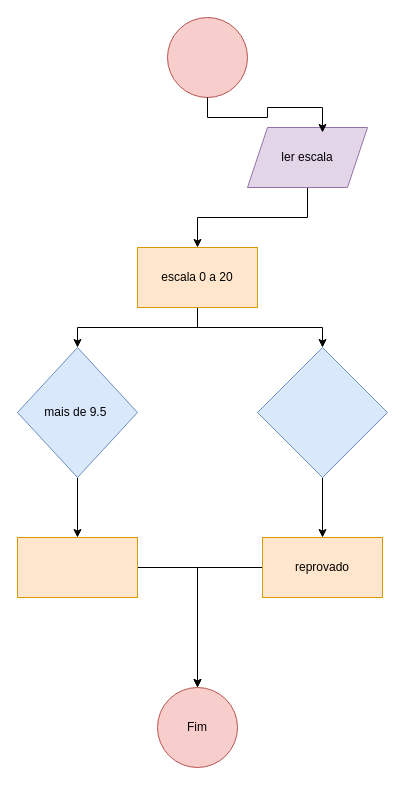
This 405x785 diagram has some shape labels left out. The shapes that lost their labels are listed below. From the top down, each one's box as (x1, y1, x2, y2) in pixels, then its label:
(166, 16, 248, 98): Início
(256, 346, 388, 478): menos de 9.5=
(16, 536, 138, 598): aprovado
